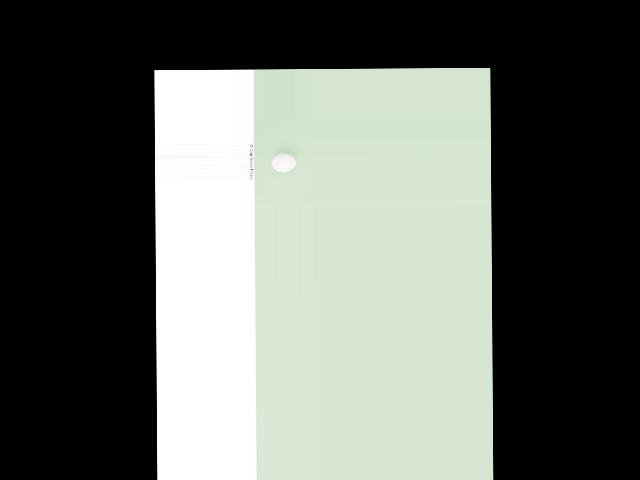egg: (271, 153, 295, 172)
